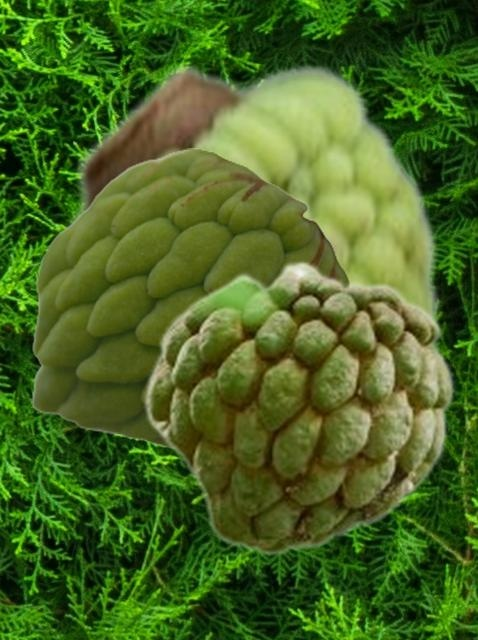atis: (55, 60, 441, 322), (31, 148, 349, 451), (141, 259, 454, 555)
